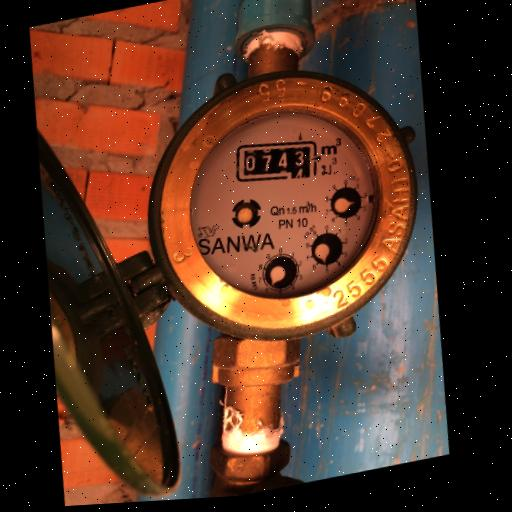0: (239, 148, 262, 178)
3: (286, 144, 314, 182)
4: (269, 145, 297, 176)
7: (253, 147, 278, 177)
border_water_meter_number: (229, 129, 325, 194)
